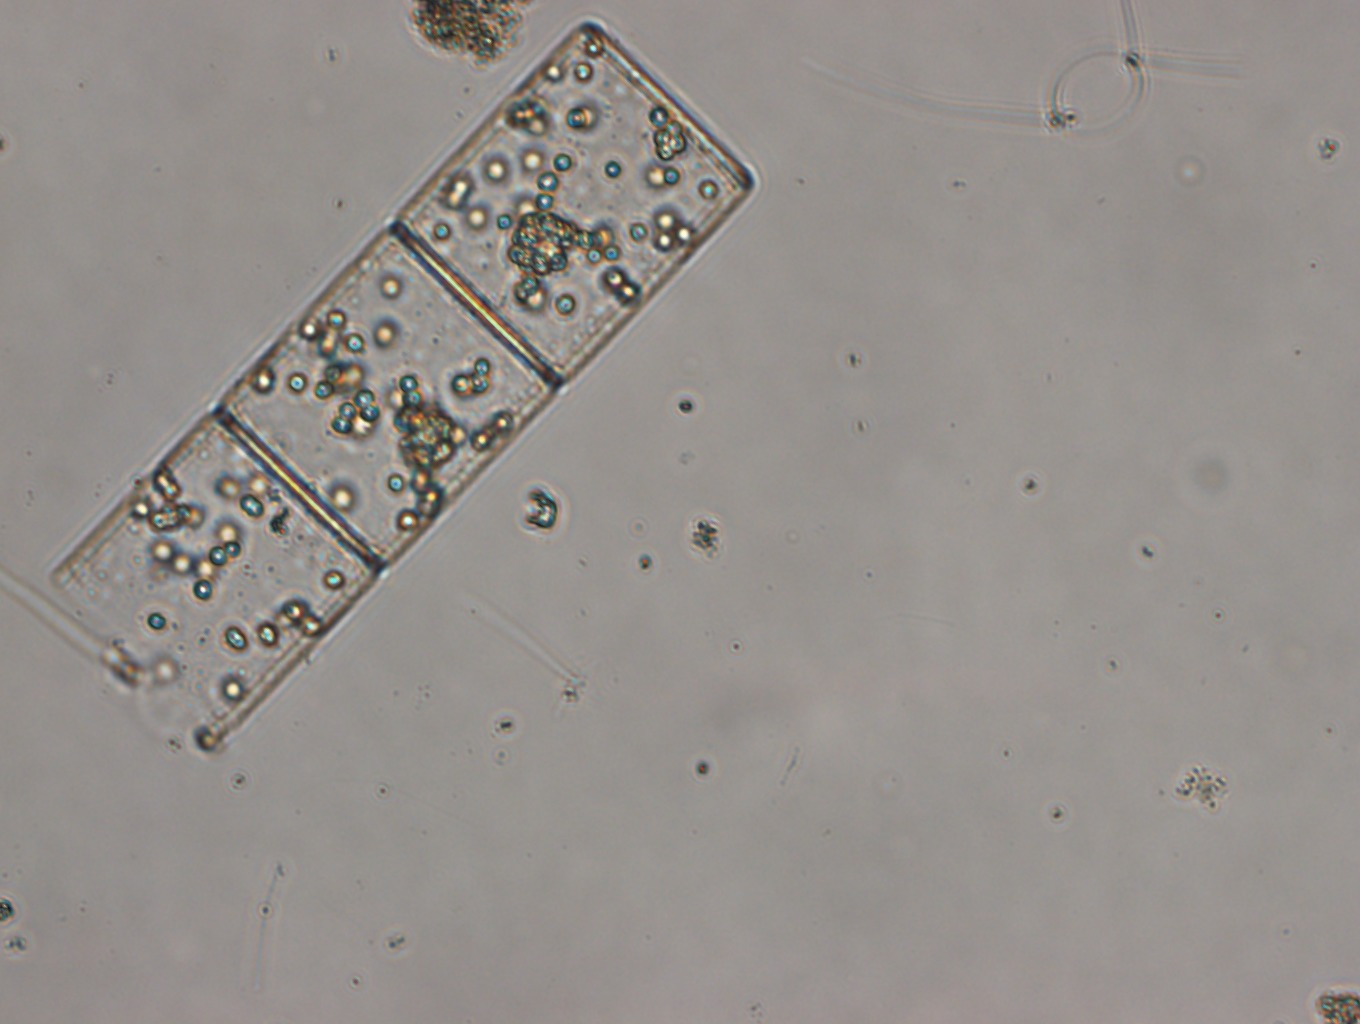guinardia flaccida: (47, 16, 759, 753)
